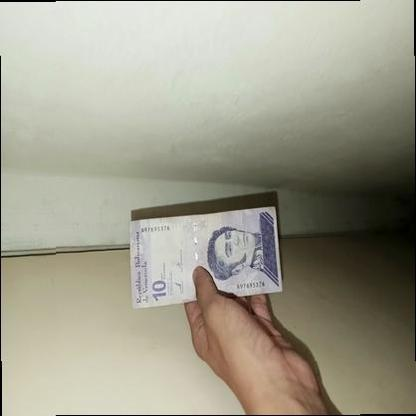ten-front-vef: (129, 207, 283, 308)
